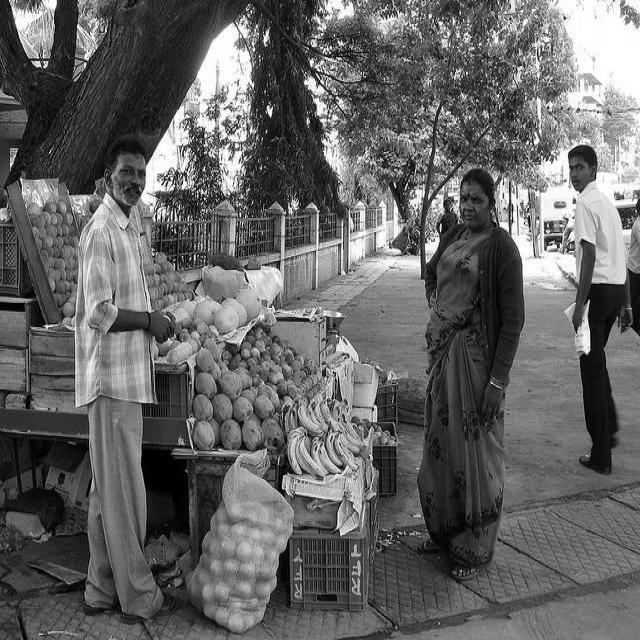vehicle: (613, 199, 640, 263)
